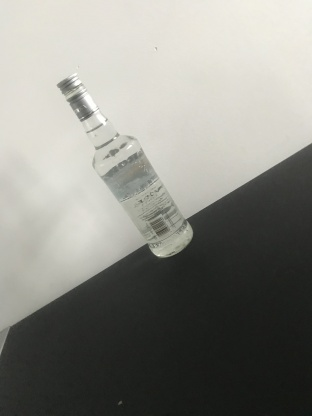nakretka: (55, 69, 100, 124)
